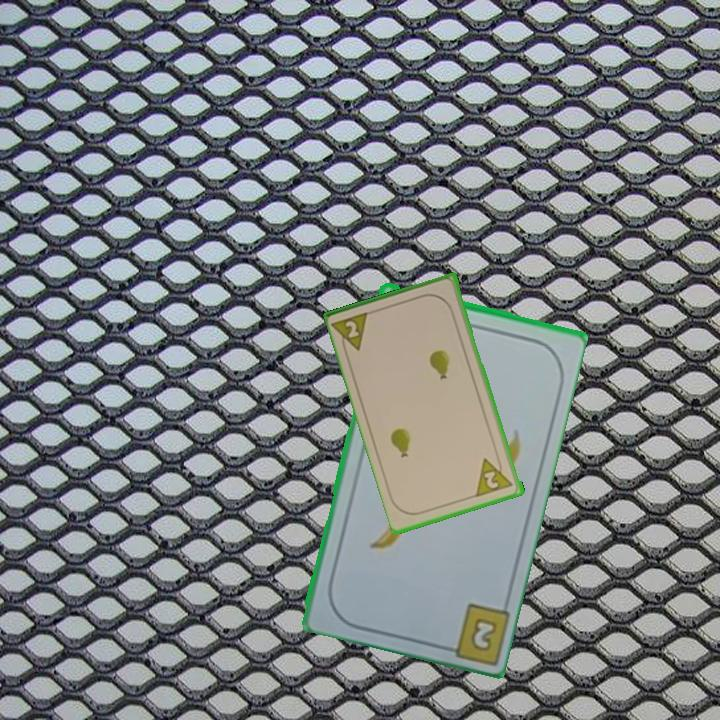2b: (435, 599, 511, 664)
2p: (473, 452, 516, 500), (342, 317, 362, 341)
